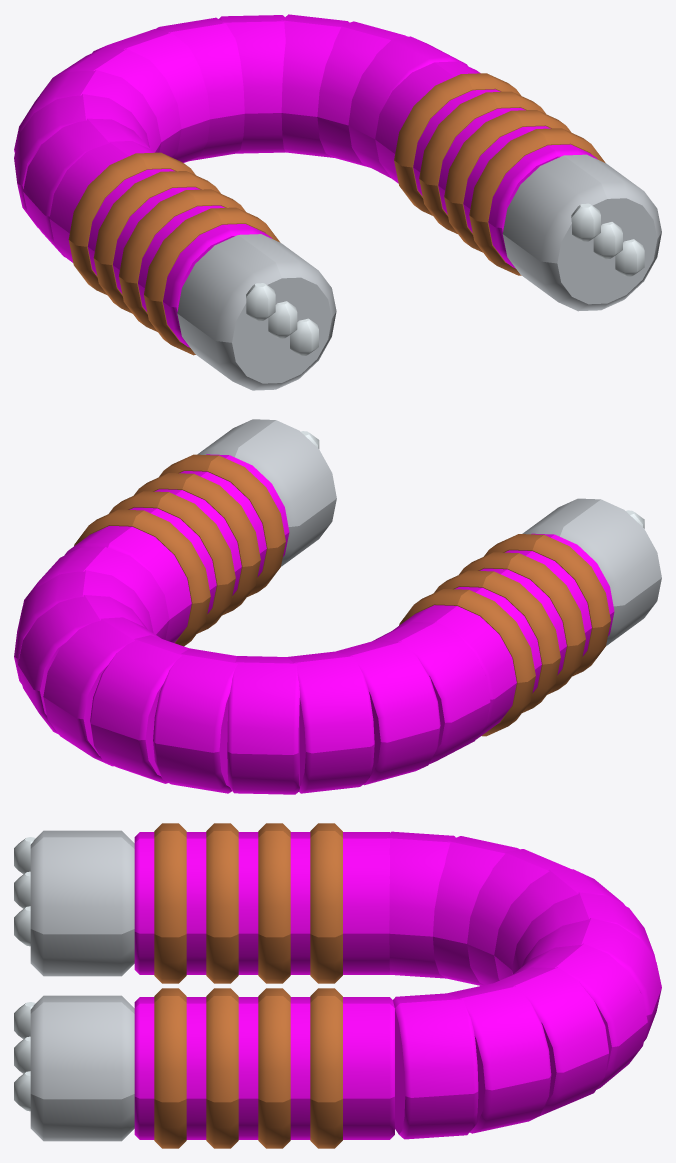
File: objet_aimant_supra.glb
3 views of the same model, one above another, from view 1: azimuth 30°, elevation 25°; view 2: azimuth 150°, elevation 25°; view 3: azimuth 270°, elevation 25° (orthographic). The views are drawn at different scales.
Parts seen in each view (by area): view 1: aimant_teinte.002, aimant_composant_clair.002, aimant_cuivre.002, aimant_givre.002; view 2: aimant_teinte.002, aimant_cuivre.002, aimant_composant_clair.002; view 3: aimant_teinte.002, aimant_cuivre.002, aimant_composant_clair.002, aimant_givre.002.
Part boxes in pixels (<box>): aimant_teinte.002: <box>14,14,597,347</box>; aimant_composant_clair.002: <box>177,154,661,390</box>; aimant_cuivre.002: <box>68,73,605,355</box>; aimant_givre.002: <box>246,203,644,355</box>; aimant_teinte.002: <box>14,454,614,794</box>; aimant_cuivre.002: <box>74,454,610,736</box>; aimant_composant_clair.002: <box>197,419,661,645</box>; aimant_teinte.002: <box>134,831,661,1139</box>; aimant_cuivre.002: <box>154,823,342,1148</box>; aimant_composant_clair.002: <box>30,830,134,1141</box>; aimant_givre.002: <box>14,837,35,1111</box>.
Size of the model in its own units: 0.2116 by 0.0616 by 0.249.
